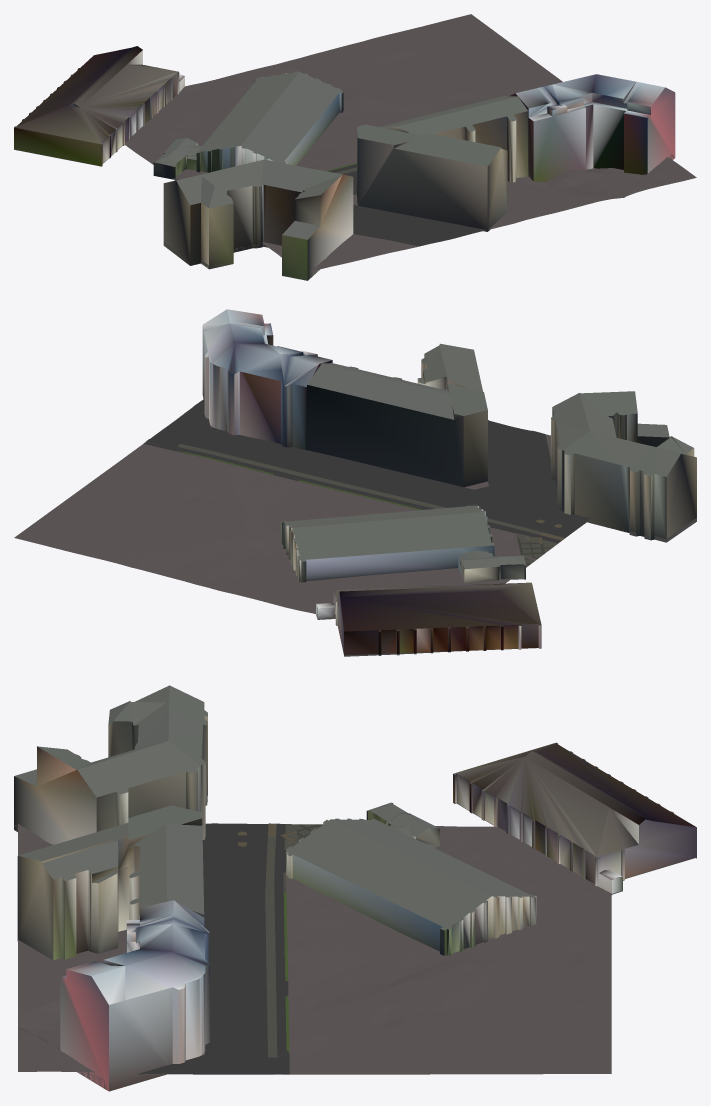
3 views of the same model, one above another, from view 1: azimuth 30°, elevation 25°; view 2: azimuth 150°, elevation 25°; view 3: azimuth 270°, elevation 25° (orthographic). The views are drawn at different scales.
Visible parts, largest first — view 1: c_m14_m13; view 2: c_m14_m13; view 3: c_m14_m13.
Part boxes in pixels (bbox=[...]): c_m14_m13: bbox=[14, 14, 696, 280]; c_m14_m13: bbox=[14, 309, 696, 656]; c_m14_m13: bbox=[14, 685, 696, 1091].
Bounding box in the file's own units: 161 × 25.52 × 147.
